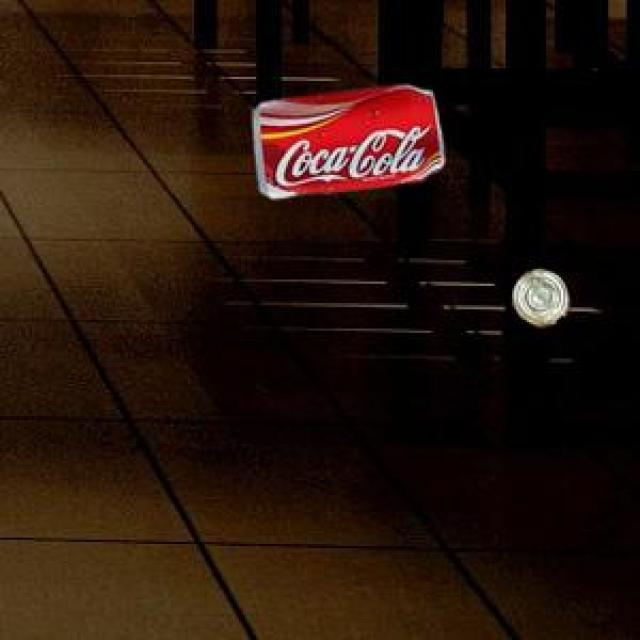Can: (251, 82, 441, 195), (511, 266, 566, 323)
